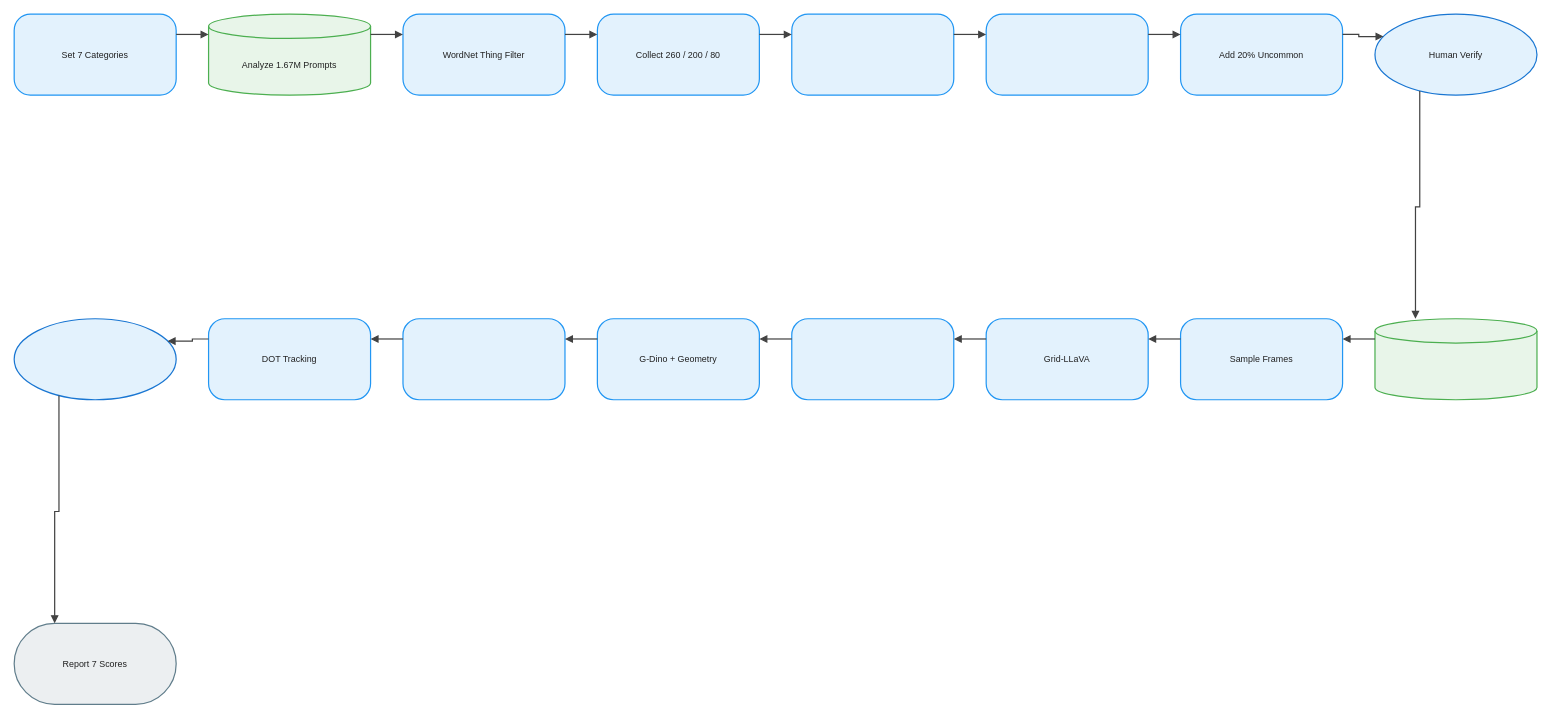
Some shapes in this 1552 by 719 pixel diagram are drawn without their labels. Here are the shapes that lost their labels. From the top down, the box of each, then its label:
(791, 13, 954, 95): GPT-4 Prompts
(985, 13, 1148, 95): Require Active Verbs
(13, 318, 176, 400): Human Correlation
(402, 318, 565, 400): SAM + Depth
(791, 318, 954, 400): D-LLaVA
(1374, 318, 1537, 400): Freeze 1,400
